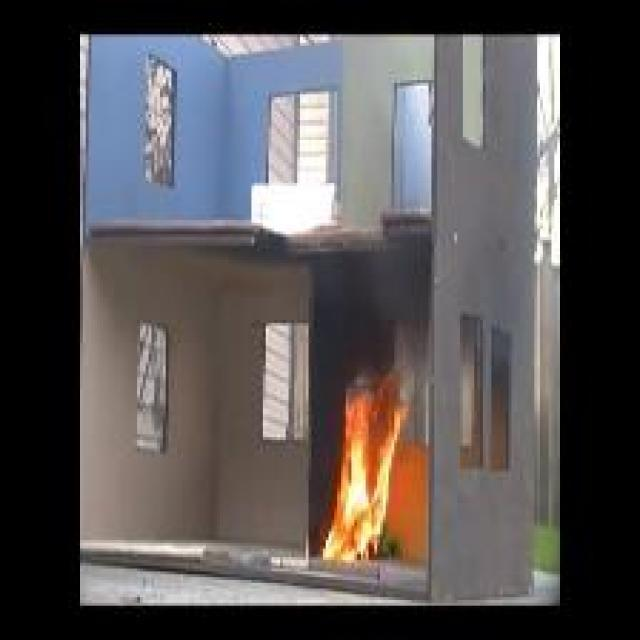Fire: (324, 374, 404, 563)
